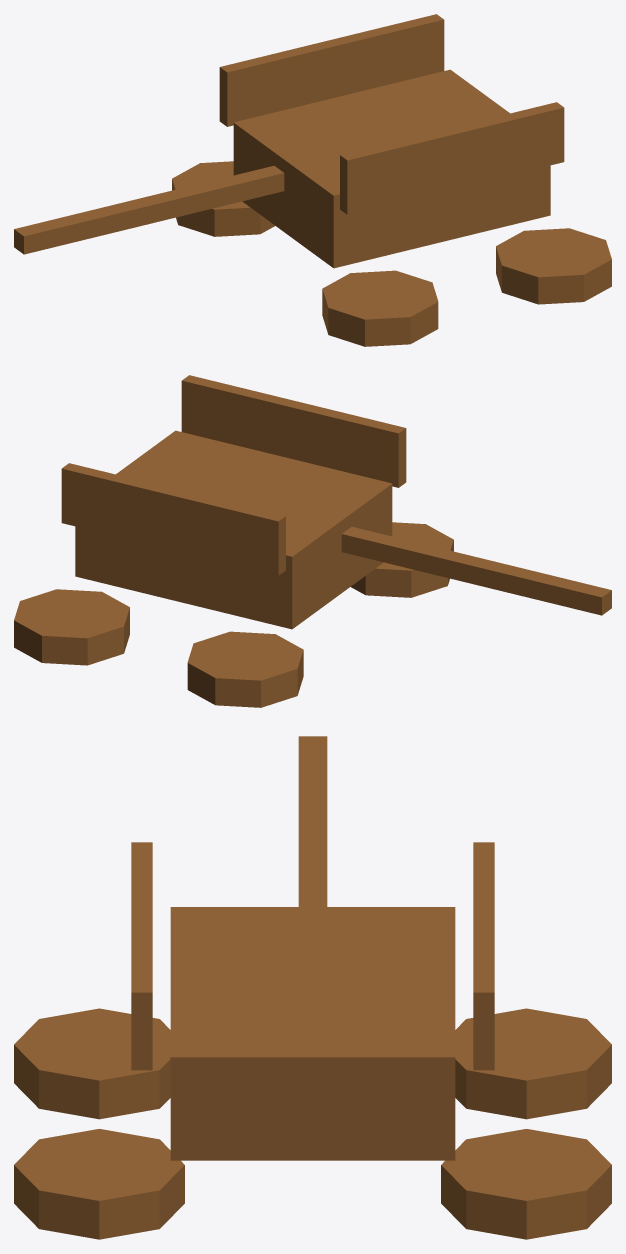
The model's file is cart.obj.
3 renders of one model, top to bottom at view 1: azimuth 30°, elevation 25°; view 2: azimuth 150°, elevation 25°; view 3: azimuth 270°, elevation 25°, orthographic. The views are drawn at different scales.
Bounding box in the file's own units: 0.59 × 0.175 × 0.42.
